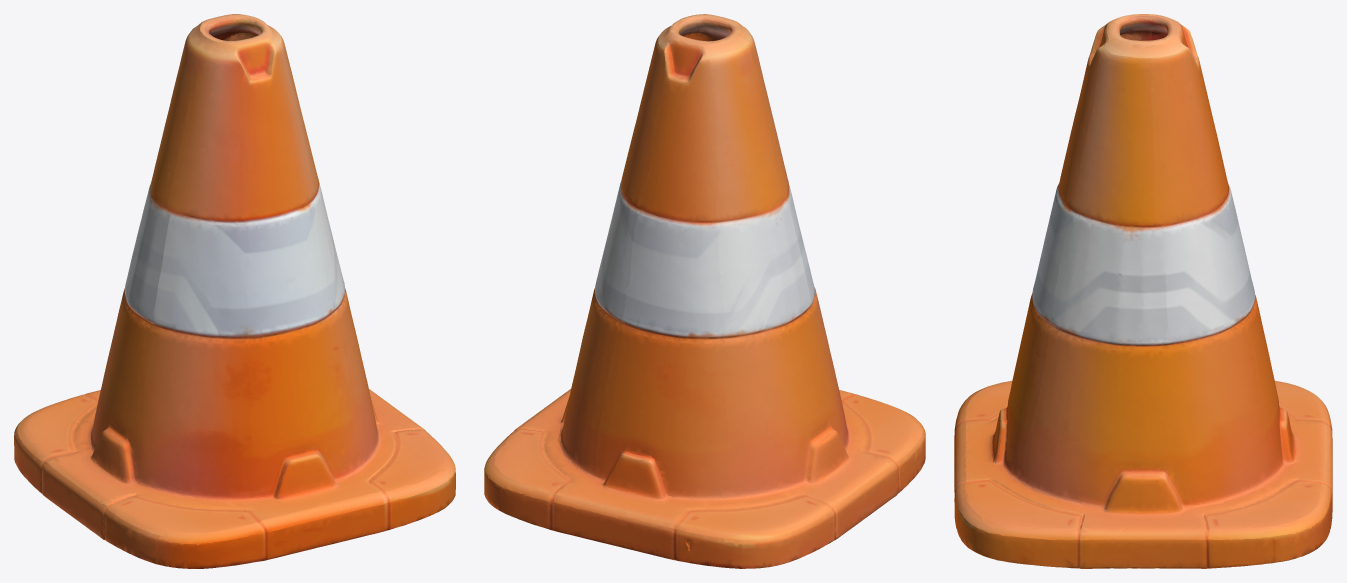
Rendered from u_prp_traffic_cone.glb.
The picture shows the model from 3 angles, left to right: view 1: azimuth 30°, elevation 25°; view 2: azimuth 150°, elevation 25°; view 3: azimuth 270°, elevation 25°; orthographic projection. The views are drawn at different scales.
Parts seen in each view (by area): view 1: geometry_0; view 2: geometry_0; view 3: geometry_0.
Boxes of the visible parts, bbox=[...] form: geometry_0: bbox=[14, 14, 455, 568]; geometry_0: bbox=[484, 14, 925, 568]; geometry_0: bbox=[954, 14, 1332, 568].
Size of the model in its own units: 0.5256 by 0.7 by 0.5175.
1 material, 1 textured.
